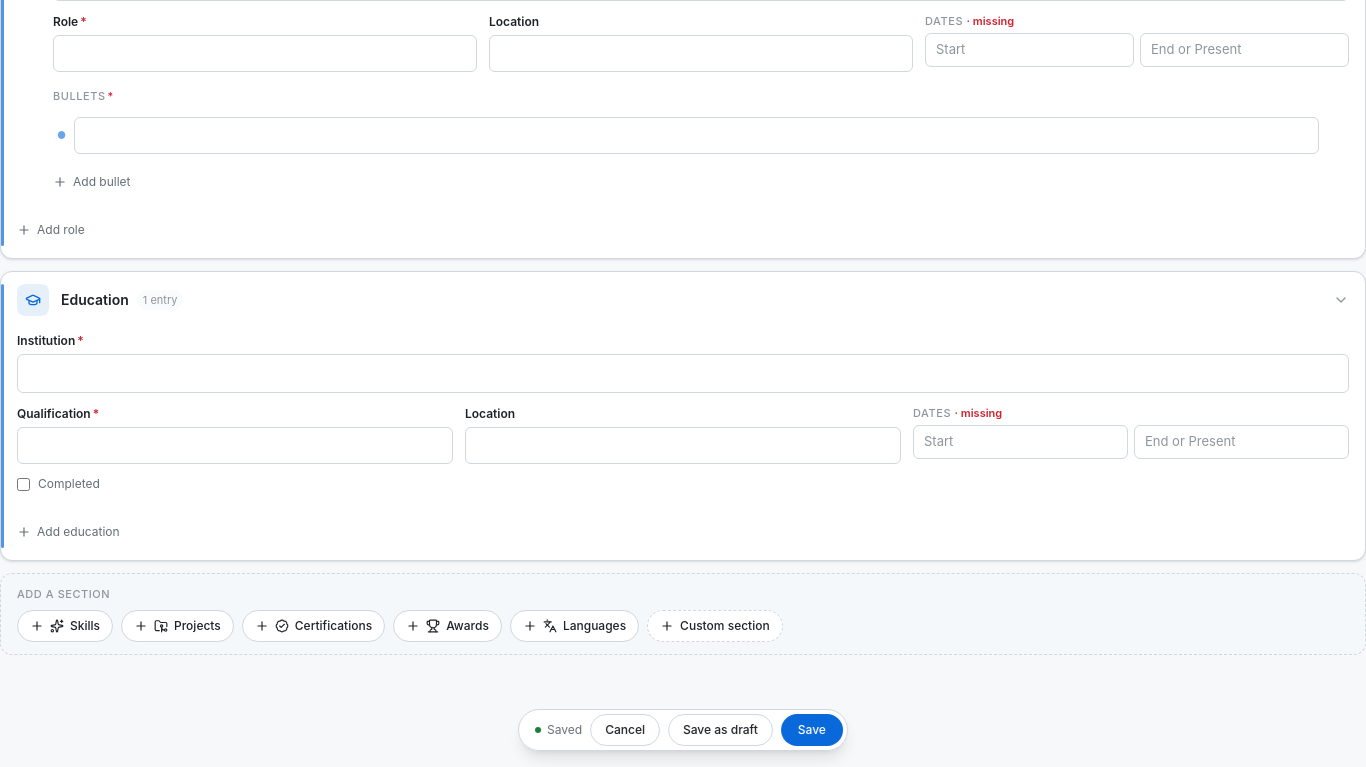
Custom sections › create mode: adding a custom section renders its title and one empty field
(page scrolled)
Step 1. Click the button "Custom section" → (715, 626), box [647, 610, 783, 642]
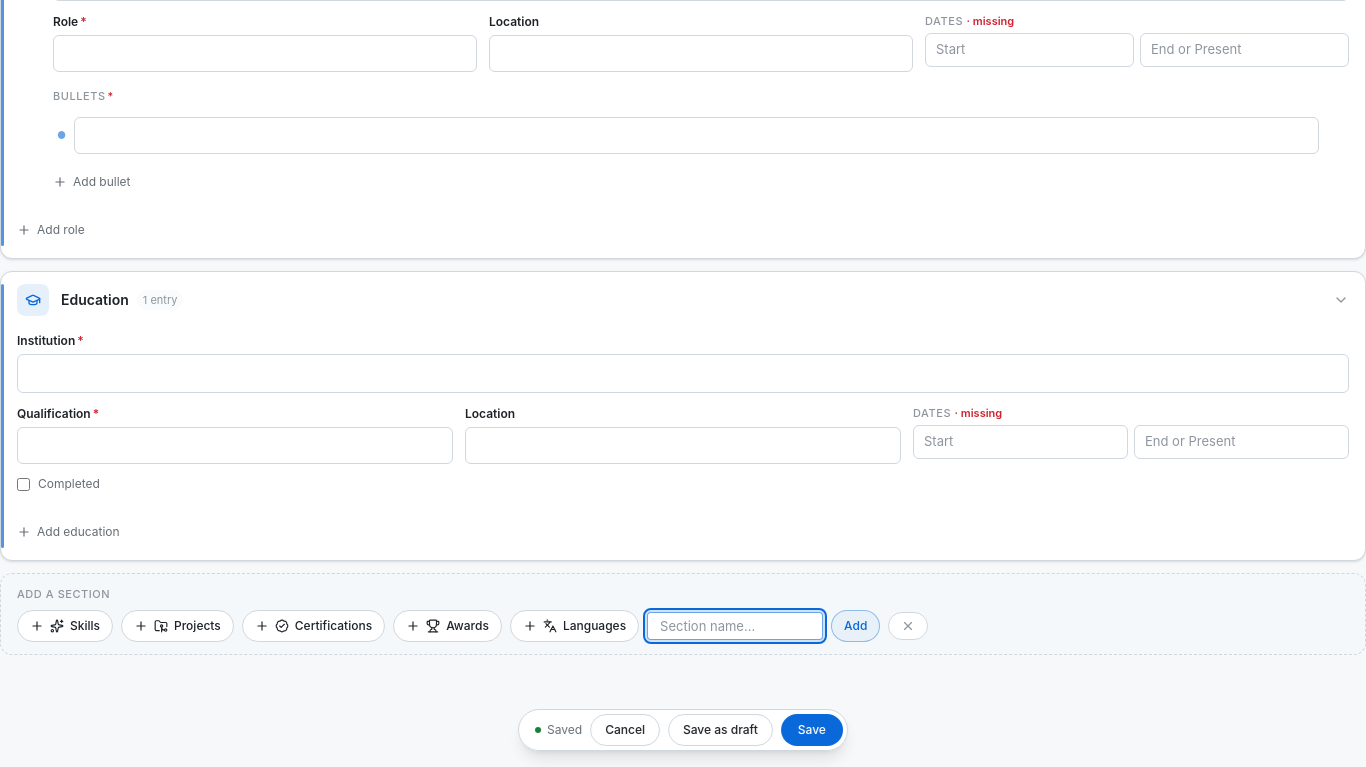
Step 2. Type "Volunteering" into the field labelled "Section name" → (735, 626), box [647, 612, 823, 640]
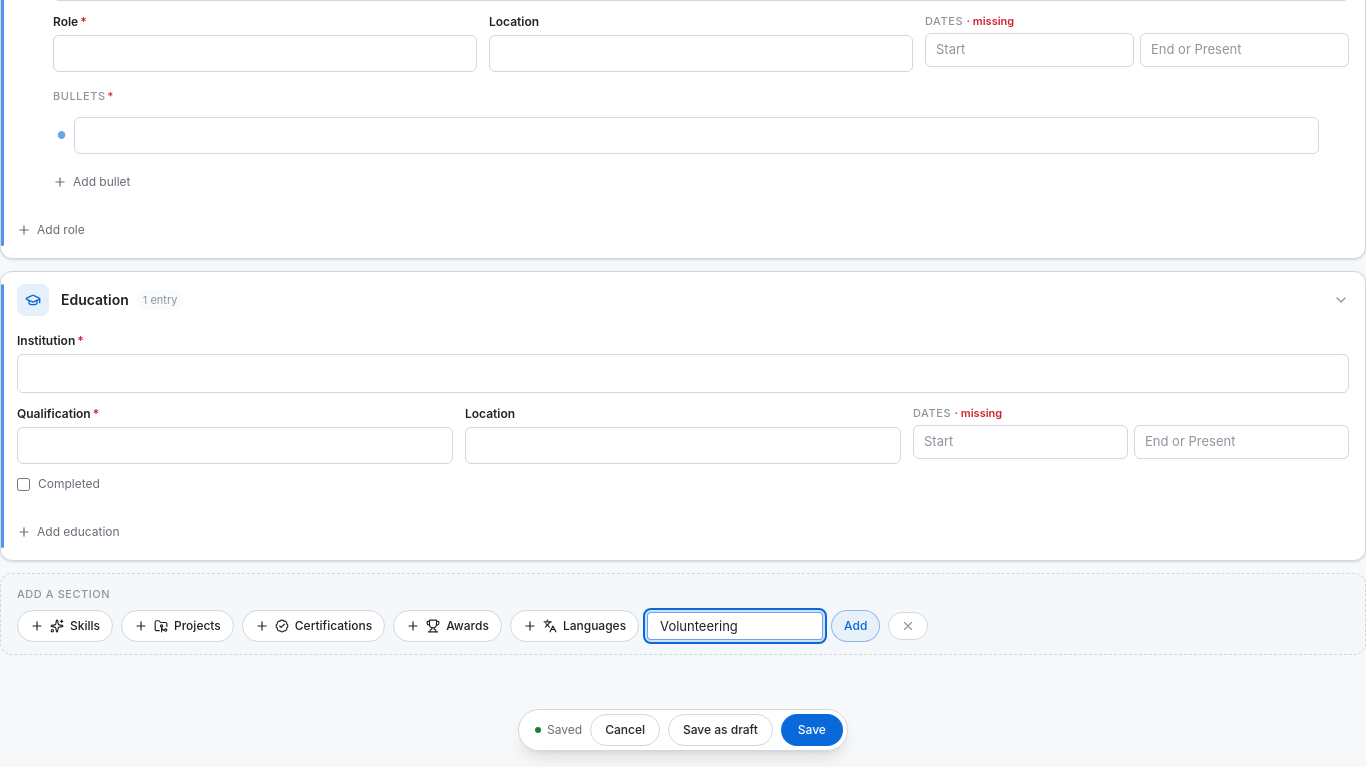
Step 3. Press Enter in the field named "Section name", box [647, 612, 823, 640]
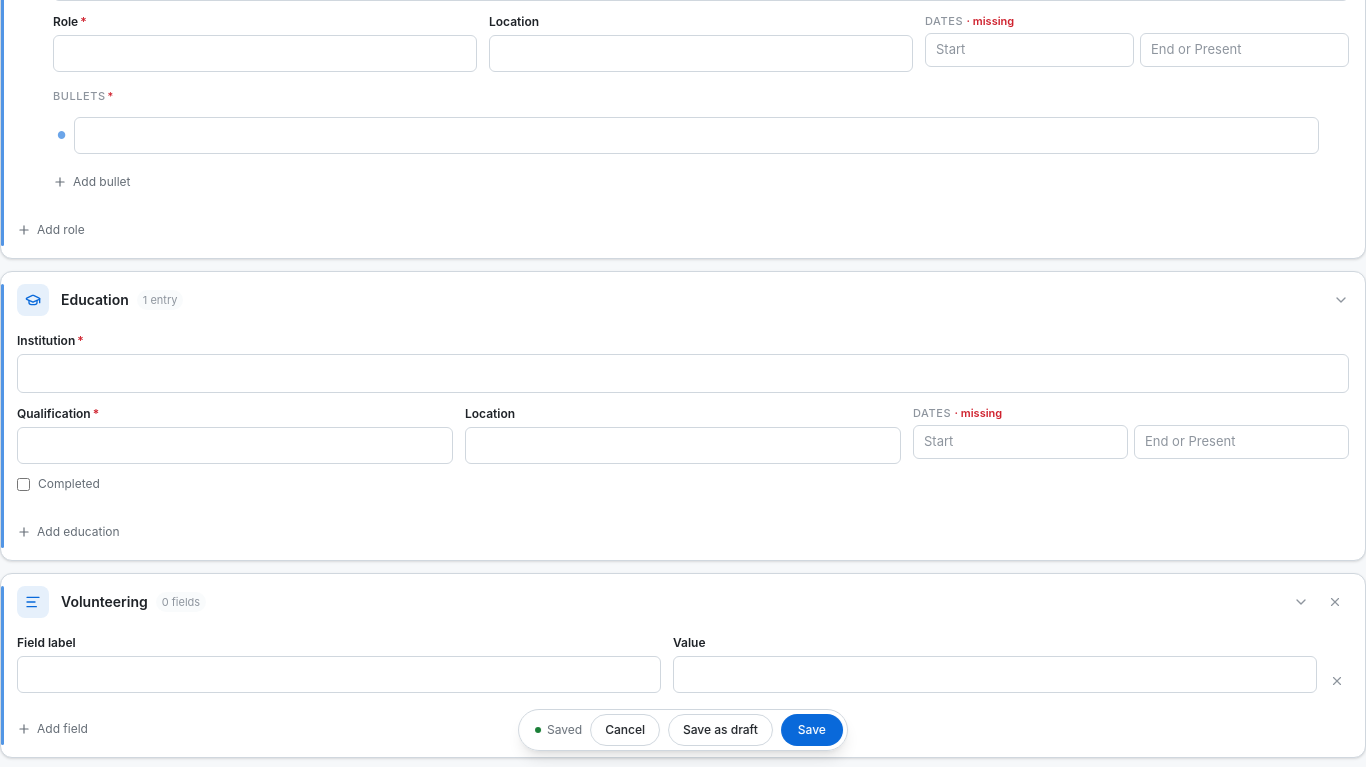
Now the text "Volunteering" is shown, box [61, 591, 148, 612]
